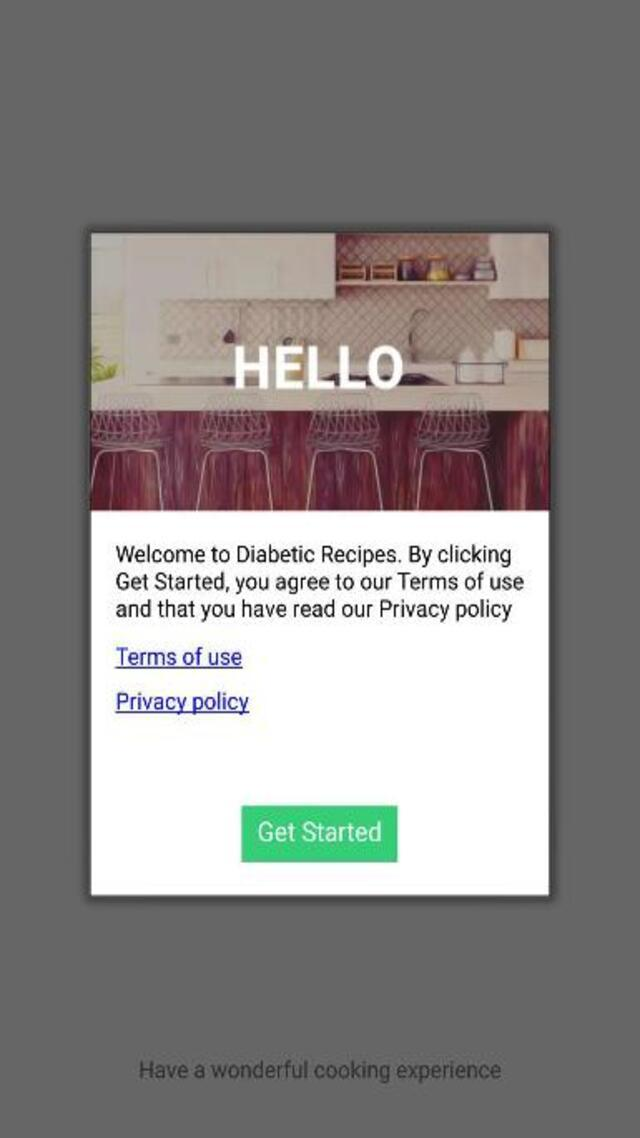Image: (90, 234, 548, 510)
Text: (113, 595, 516, 626), (116, 543, 514, 569), (114, 569, 526, 594), (235, 346, 403, 390), (254, 820, 386, 846), (116, 692, 250, 713), (115, 648, 244, 668)
TextButton: (241, 806, 397, 862)
